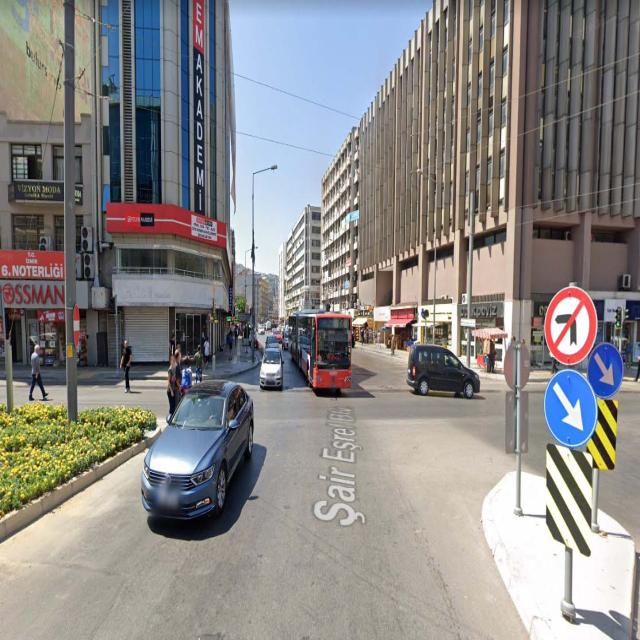girisyok: (71, 305, 81, 349)
soladonulmez: (547, 288, 595, 361)
